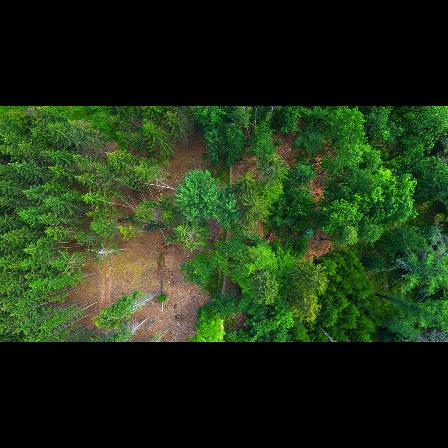Sick: (90, 243, 116, 263)
